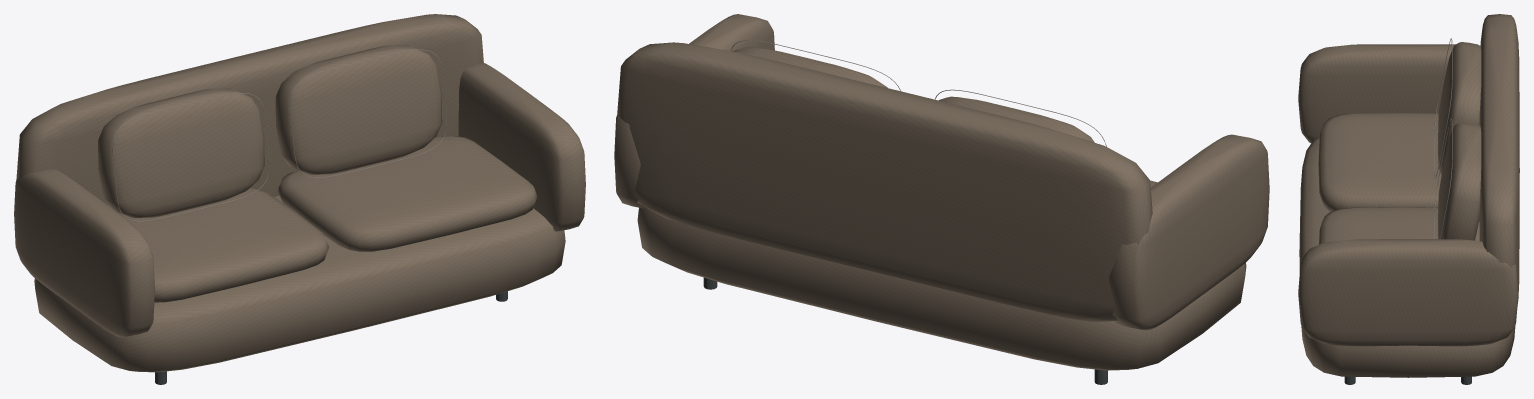
Rendered from sofa_v06a.glb.
3 views of the same model, side by side, from view 1: azimuth 30°, elevation 25°; view 2: azimuth 150°, elevation 25°; view 3: azimuth 270°, elevation 25° (orthographic). The views are drawn at different scales.
Parts seen in each view (by area): view 1: VIS_SofaUpholsteredVolumes, VIS_SofaSeams; view 2: VIS_SofaUpholsteredVolumes; view 3: VIS_SofaUpholsteredVolumes, VIS_SofaSeams.
Boxes of the visible parts, left/top/right/bottom form: VIS_SofaUpholsteredVolumes: left=14, top=14, right=585, bottom=372; VIS_SofaSeams: left=112, top=49, right=446, bottom=221; VIS_SofaUpholsteredVolumes: left=614, top=14, right=1269, bottom=370; VIS_SofaUpholsteredVolumes: left=1298, top=14, right=1519, bottom=377; VIS_SofaSeams: left=1434, top=38, right=1452, bottom=239.
Bounding box in the file's own units: 1.97 × 0.899 × 0.875.
Materials: 3 (1 with a texture image).
